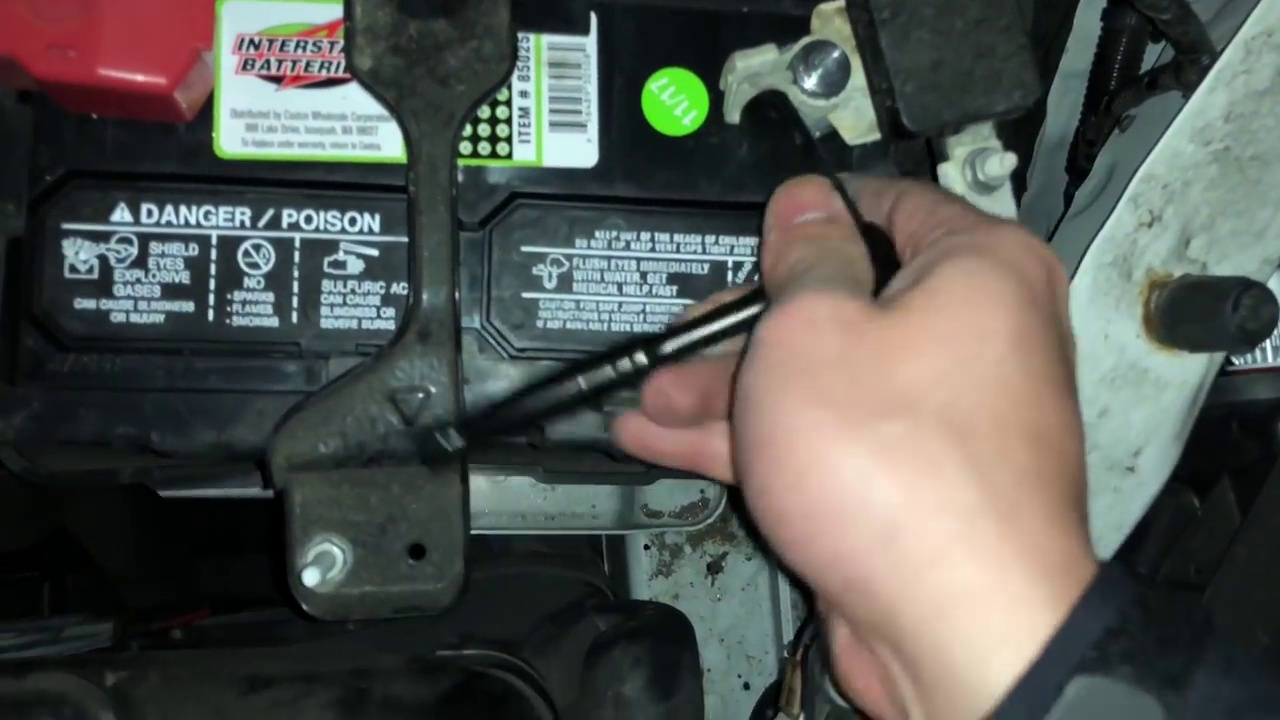battery: (1, 1, 933, 497)
neg_connected: (698, 12, 932, 180)
neg_touched: (718, 20, 1009, 405)
pos_connected: (6, 10, 239, 141)
